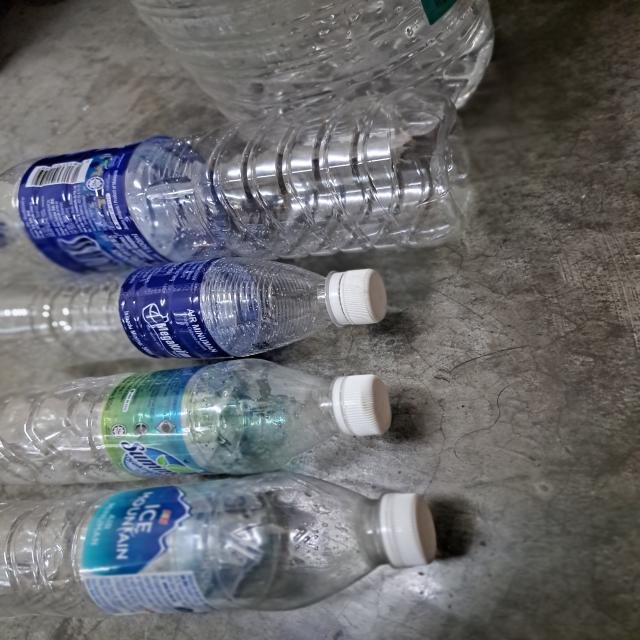plastic bottle: (0, 90, 475, 271), (124, 0, 500, 148), (0, 475, 385, 607), (0, 354, 338, 482), (0, 258, 338, 357)
plastic bottle cap: (371, 493, 442, 567), (329, 369, 395, 436), (329, 268, 395, 327)
